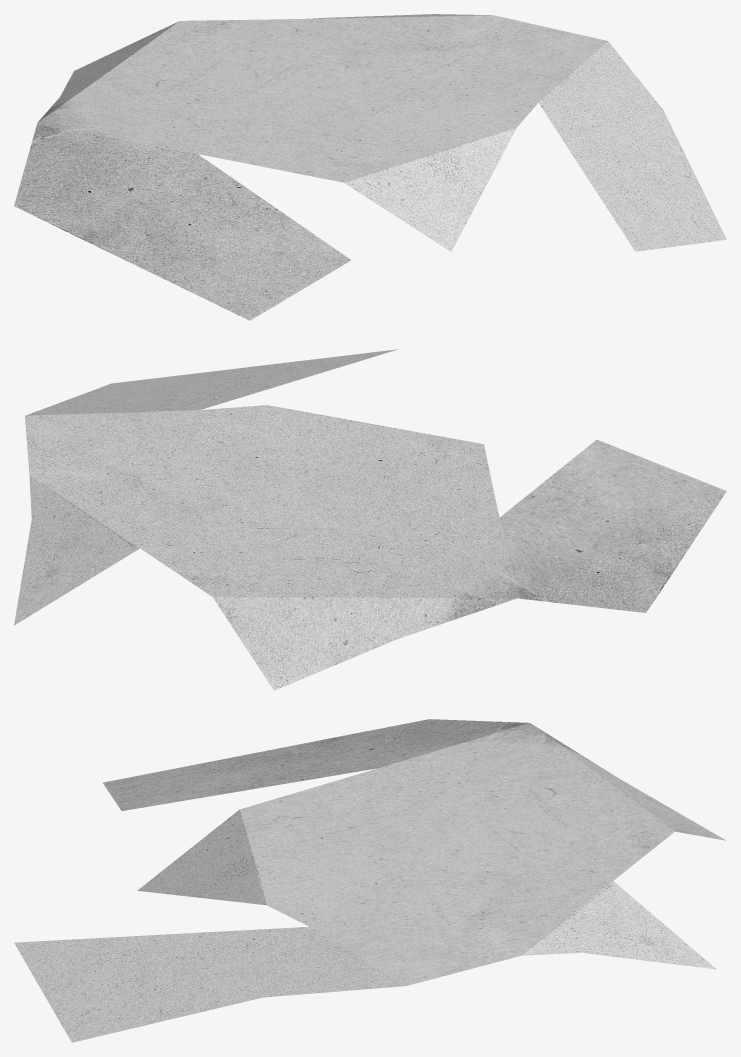
Rendered from paper_1.gltf.
3 views of the same model, one above another, from view 1: azimuth 30°, elevation 25°; view 2: azimuth 150°, elevation 25°; view 3: azimuth 270°, elevation 25° (orthographic). The views are drawn at different scales.
Visible parts, largest first — view 1: Paper_1; view 2: Paper_1; view 3: Paper_1.
Boxes of the visible parts, left/top/right/bottom form: Paper_1: left=14, top=14, right=726, bottom=320; Paper_1: left=14, top=349, right=726, bottom=690; Paper_1: left=14, top=719, right=725, bottom=1042.
Bounding box in the file's own units: 14.91 × 1.79 × 14.99.
1 material, 1 textured.
